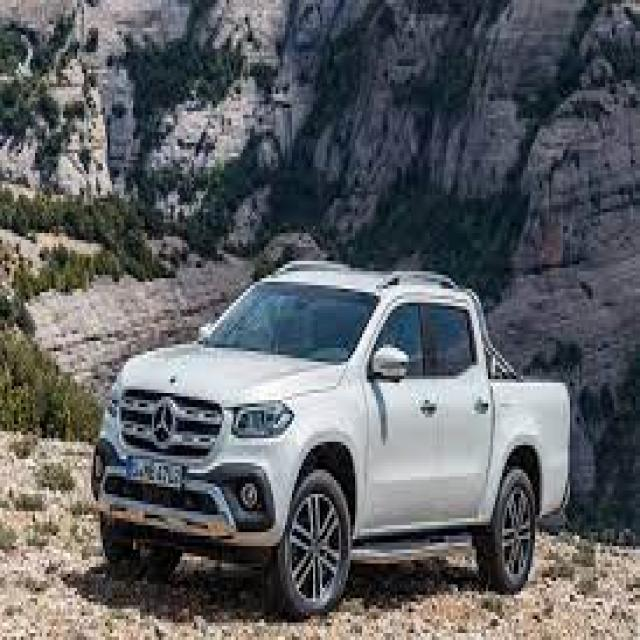Pickup Trucks: (91, 268, 570, 619)
